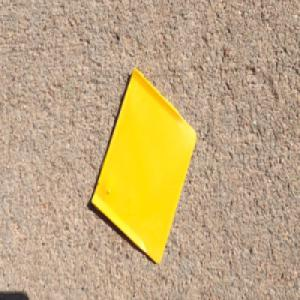PlasticPart: (90, 65, 197, 265)
